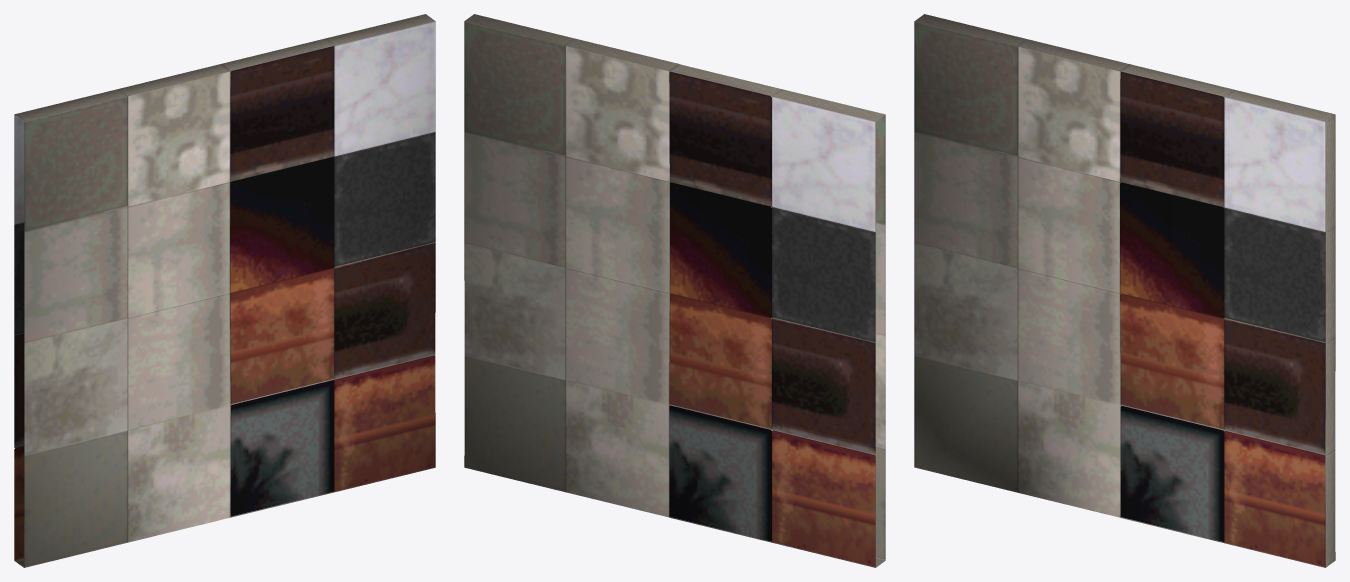
3 renders of one model, left to right at view 1: azimuth 30°, elevation 25°; view 2: azimuth 150°, elevation 25°; view 3: azimuth 330°, elevation 25°, orthographic.
Parts seen in each view (by area): view 1: T1L4M008_11; view 2: T1L4M008_11; view 3: T1L4M008_11.
Boxes of the visible parts, x1,y1,x2,y2 form: T1L4M008_11: [14, 14, 435, 567]; T1L4M008_11: [464, 14, 885, 567]; T1L4M008_11: [914, 14, 1335, 567].
Bounding box in the file's own units: 4.78 × 4.96 × 0.2018.
